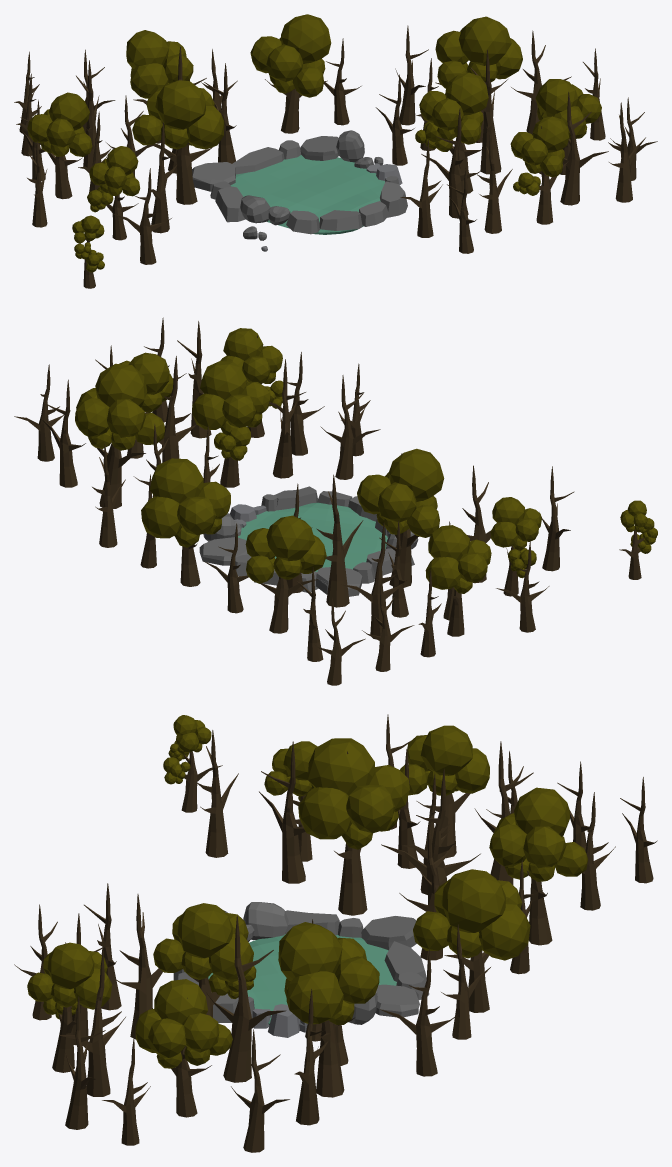
Rendered from ambienteDePezFeo.fbx.
3 views of the same model, one above another, from view 1: azimuth 30°, elevation 25°; view 2: azimuth 150°, elevation 25°; view 3: azimuth 270°, elevation 25° (orthographic). The views are drawn at different scales.
Parts seen in each view (by area): view 1: agua, piedra4, hojas4.014, hojas4.011, hojas4.010, hojas4.007, hojas4.006, hojas4.005, hojas4.012, hojas4.009, piedra5, hojas4.003 (+35 smaller); view 2: hojas4.011, hojas4.014, hojas4.010, hojas4.007, hojas4.006, agua, hojas4.005, piedra4, hojas4.012, hojas4.003, pino1.001, piedra5 (+28 smaller); view 3: hojas4.014, hojas4.011, hojas4.010, hojas4.006, hojas4.009, hojas4.007, hojas4.005, hojas4.012, piedra4, agua, pino1.002, piedra5 (+34 smaller).
Part boxes in pixels (x1,y1,x2,y2): agua: (230, 155, 384, 234); piedra4: (232, 136, 407, 234); hojas4.014: (132, 80, 224, 149); hojas4.011: (250, 14, 331, 97); hojas4.010: (435, 16, 522, 88); hojas4.007: (419, 72, 488, 144); hojas4.006: (126, 30, 193, 98); hojas4.005: (27, 92, 92, 156); hojas4.012: (510, 116, 569, 177); hojas4.009: (535, 79, 601, 139); piedra5: (192, 162, 399, 222); hojas4.003: (89, 146, 140, 196); hojas4.011: (141, 458, 230, 547); hojas4.014: (357, 448, 444, 537); hojas4.010: (75, 363, 165, 450); hojas4.007: (192, 361, 270, 435); hojas4.006: (245, 515, 326, 583); agua: (238, 502, 387, 571); hojas4.005: (425, 525, 491, 593); piedra4: (199, 486, 386, 592); hojas4.012: (220, 328, 282, 383); hojas4.003: (490, 497, 541, 550); pino1.001: (316, 474, 363, 607); piedra5: (261, 494, 414, 596); hojas4.014: (298, 738, 409, 849); hojas4.011: (413, 869, 530, 960); hojas4.010: (278, 922, 379, 1024); hojas4.006: (489, 787, 587, 881); hojas4.009: (135, 979, 232, 1068); hojas4.007: (153, 903, 253, 982); hojas4.005: (400, 725, 489, 795); hojas4.012: (27, 942, 112, 1009); piedra4: (173, 941, 429, 1023); agua: (208, 934, 396, 1024); pino1.002: (206, 915, 286, 1082); piedra5: (248, 910, 416, 1018).
Bounding box in the file's own units: 99.42 × 22.98 × 74.69.
